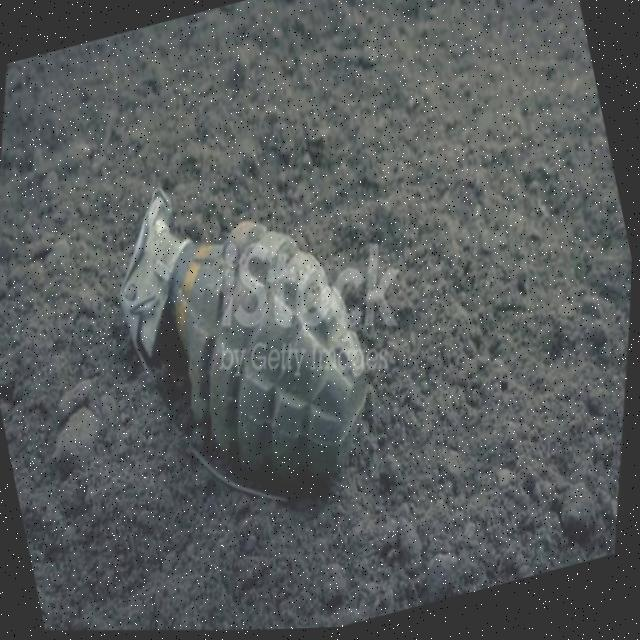grenade: (47, 129, 442, 547)
